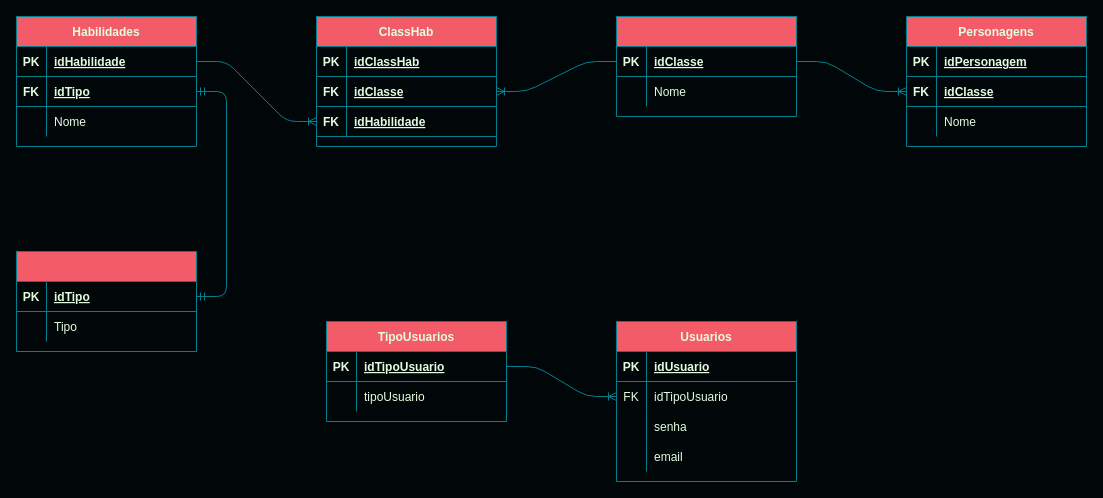
This 1103x498 diagram has some shape labels left out. Each missing label, with the box of its shape:
Classes: (616, 16, 796, 116)
Tipos: (16, 250, 196, 352)
